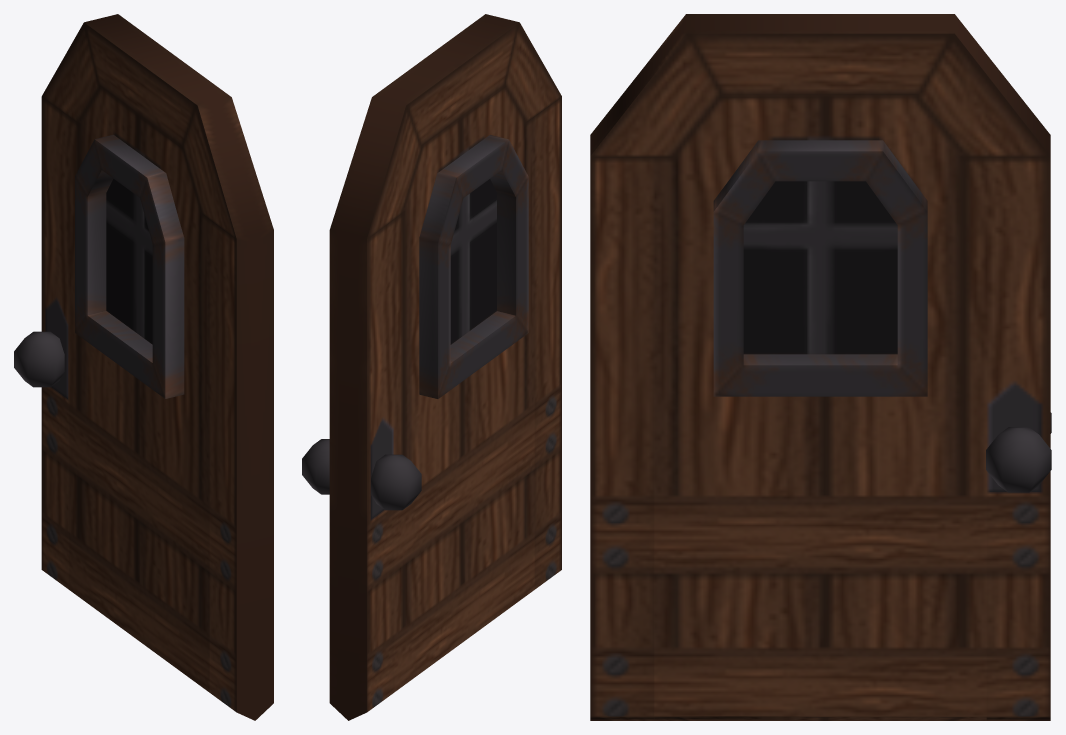
Rendered from Door9.fbx.
The picture shows the model from 3 angles, left to right: view 1: azimuth 30°, elevation 25°; view 2: azimuth 150°, elevation 25°; view 3: azimuth 270°, elevation 25°; orthographic projection. The views are drawn at different scales.
Visible parts, largest first — view 1: DoorMesh9; view 2: DoorMesh9; view 3: DoorMesh9.
Part boxes in pixels (x1,y1,x2,y2): DoorMesh9: (14, 14, 273, 720); DoorMesh9: (302, 14, 561, 720); DoorMesh9: (590, 14, 1051, 720).
Bounding box in the file's own units: 2.46 × 13.13 × 7.87.
Materials: 1 (1 with a texture image).
